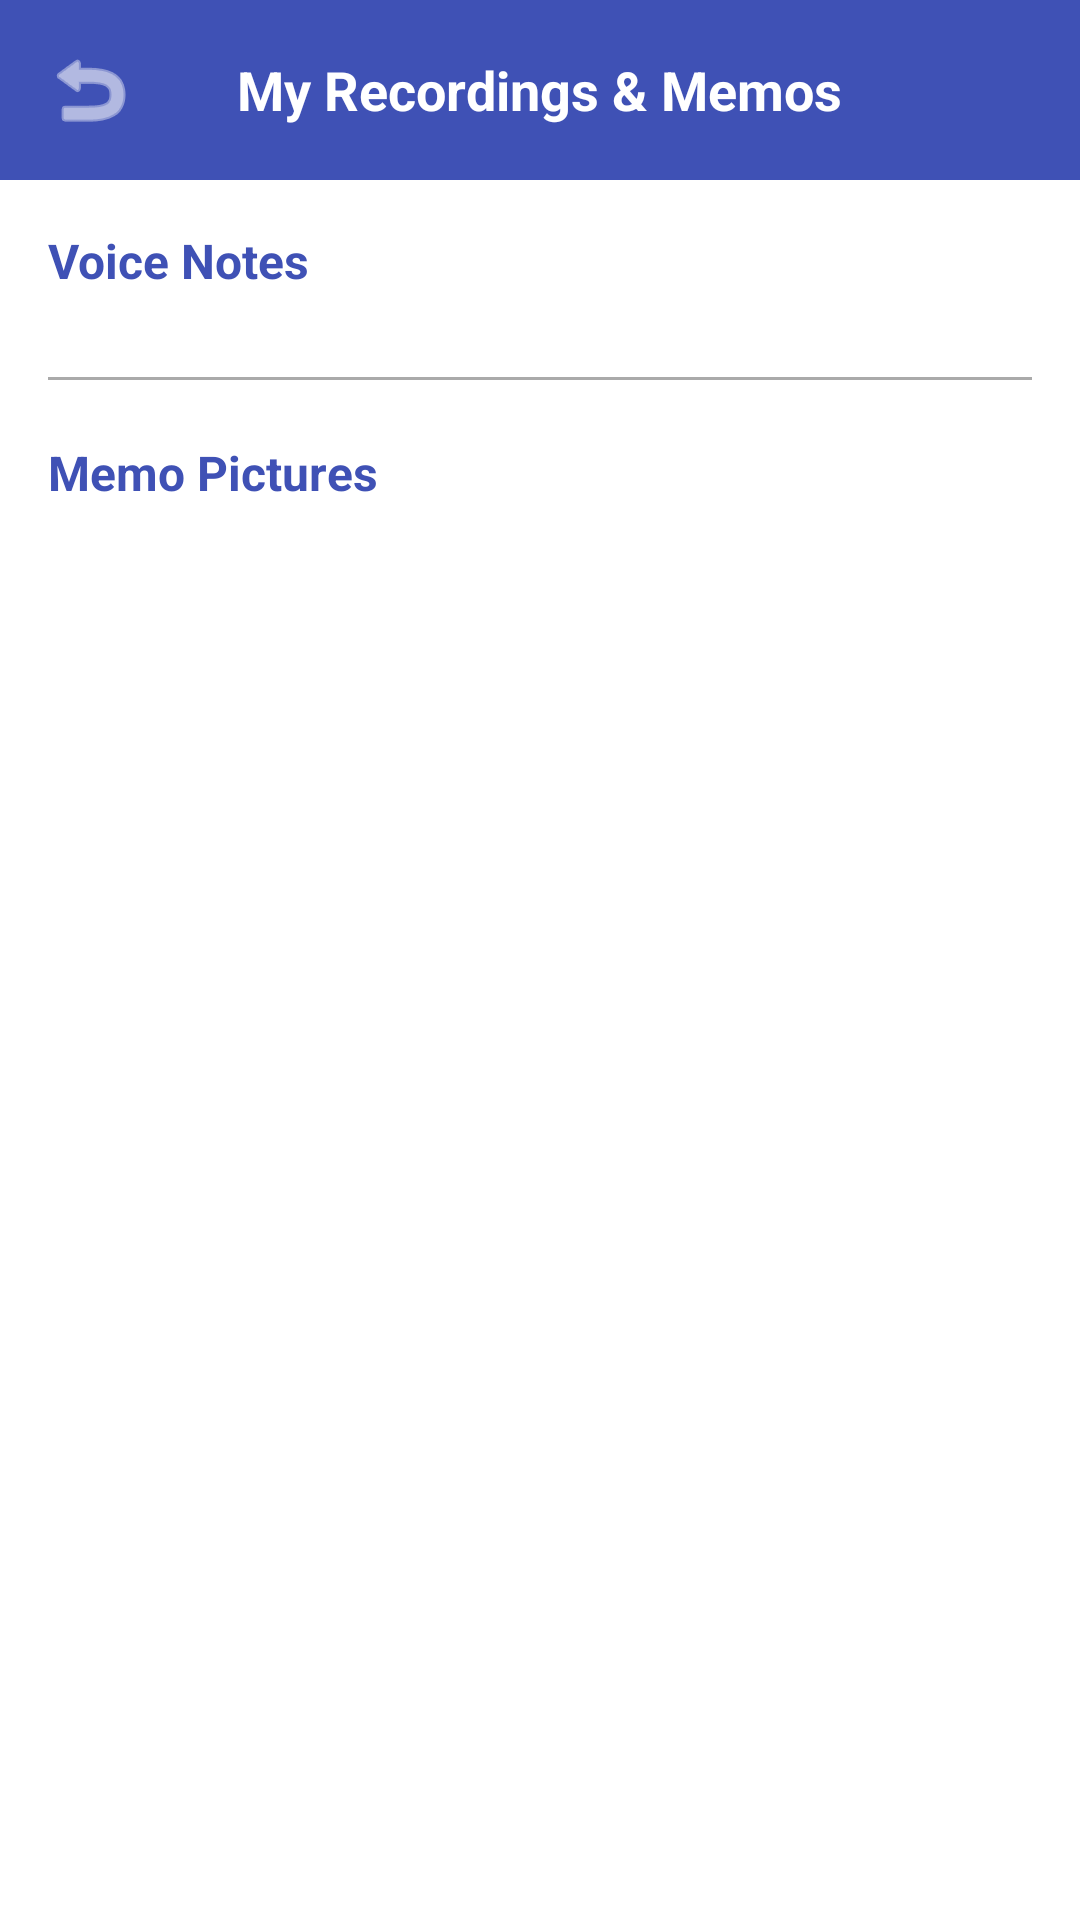

Named icons in this screenshot (1080×1920) and their bounding boxes, (x1, y1, x2, y2):
Back: (57, 59, 126, 122)
